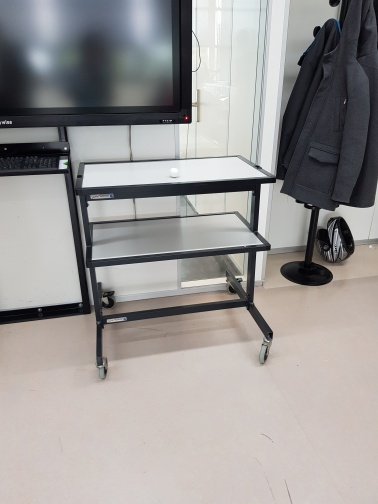egg: (166, 165, 182, 179)
